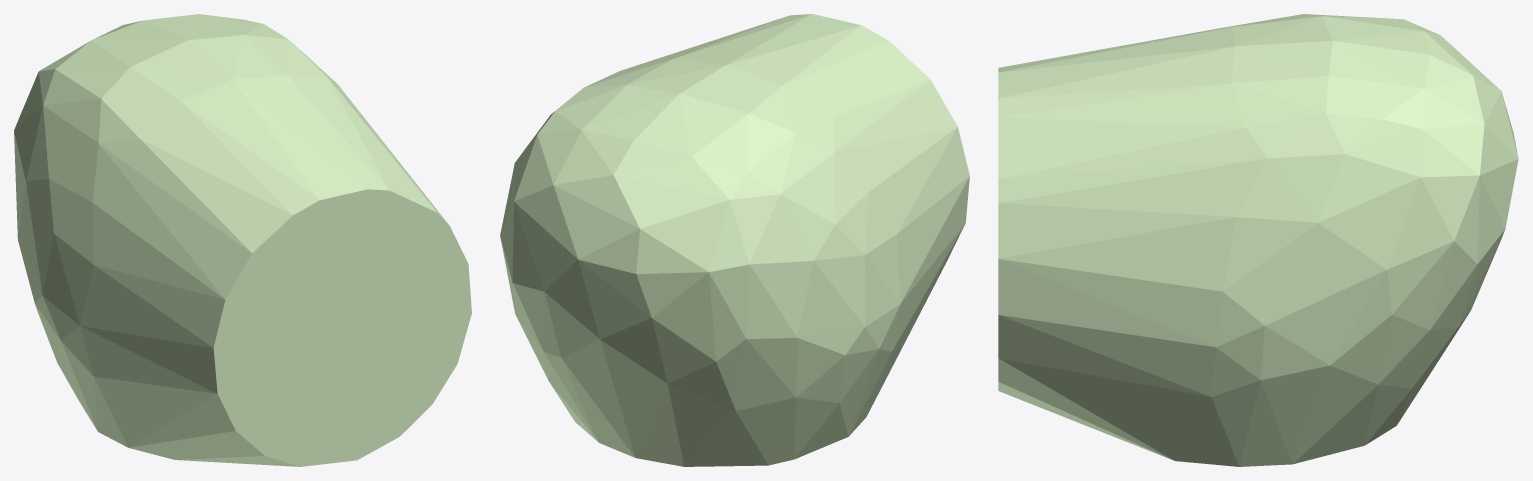
Rendered from kuka_URDF_link7_resp_coll_1.dae.
3 renders of one model, left to right at view 1: azimuth 30°, elevation 25°; view 2: azimuth 150°, elevation 25°; view 3: azimuth 270°, elevation 25°, orthographic. The views are drawn at different scales.
Parts seen in each view (by area): view 1: Node_0000020FCC592640; view 2: Node_0000020FCC592640; view 3: Node_0000020FCC592640.
Boxes of the visible parts, x1,y1,x2,y2 form: Node_0000020FCC592640: [14, 14, 471, 466]; Node_0000020FCC592640: [500, 14, 969, 466]; Node_0000020FCC592640: [998, 14, 1518, 466].
Size of the model in its own units: 0.132 by 0.1277 by 0.1675.
